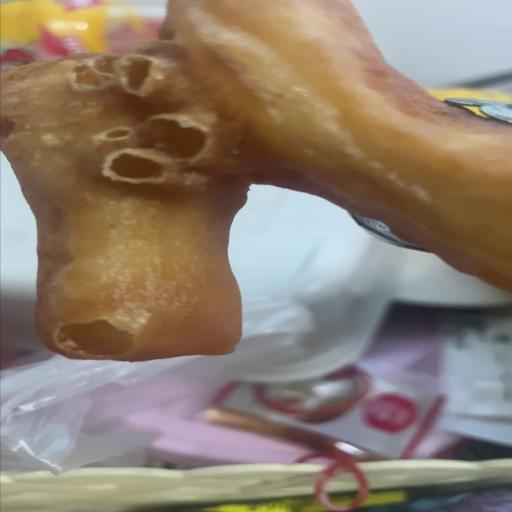street_burnt_defect: (0, 0, 512, 361), (141, 114, 208, 161)
